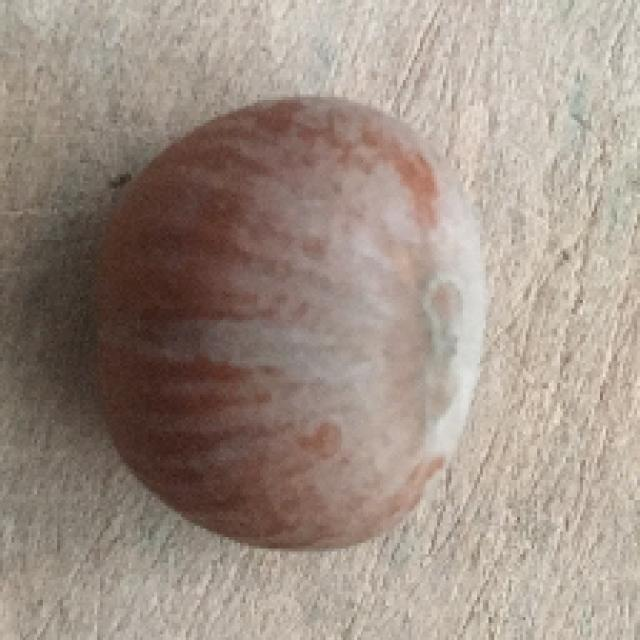QualityHazelnut: (95, 93, 489, 556)
